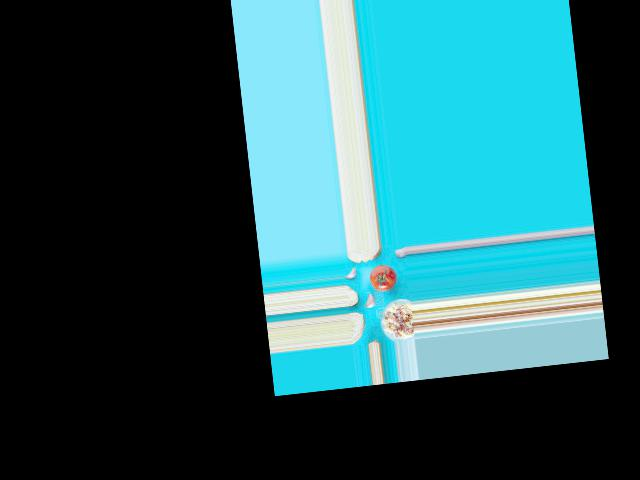tomato: (368, 263, 398, 291)
